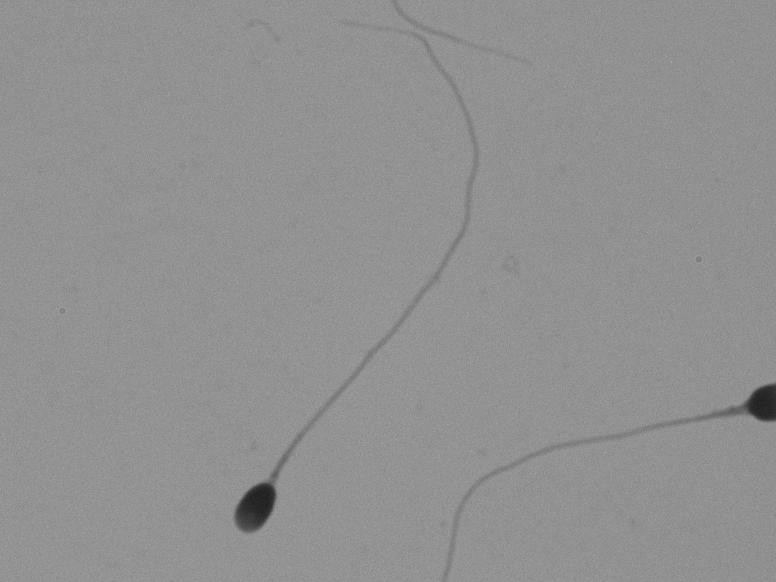Normal: (222, 17, 505, 541)
